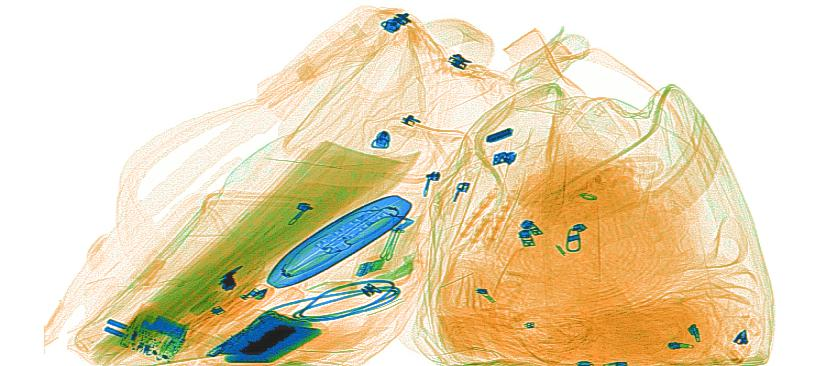USBFlashDisk: (356, 256, 387, 277)
